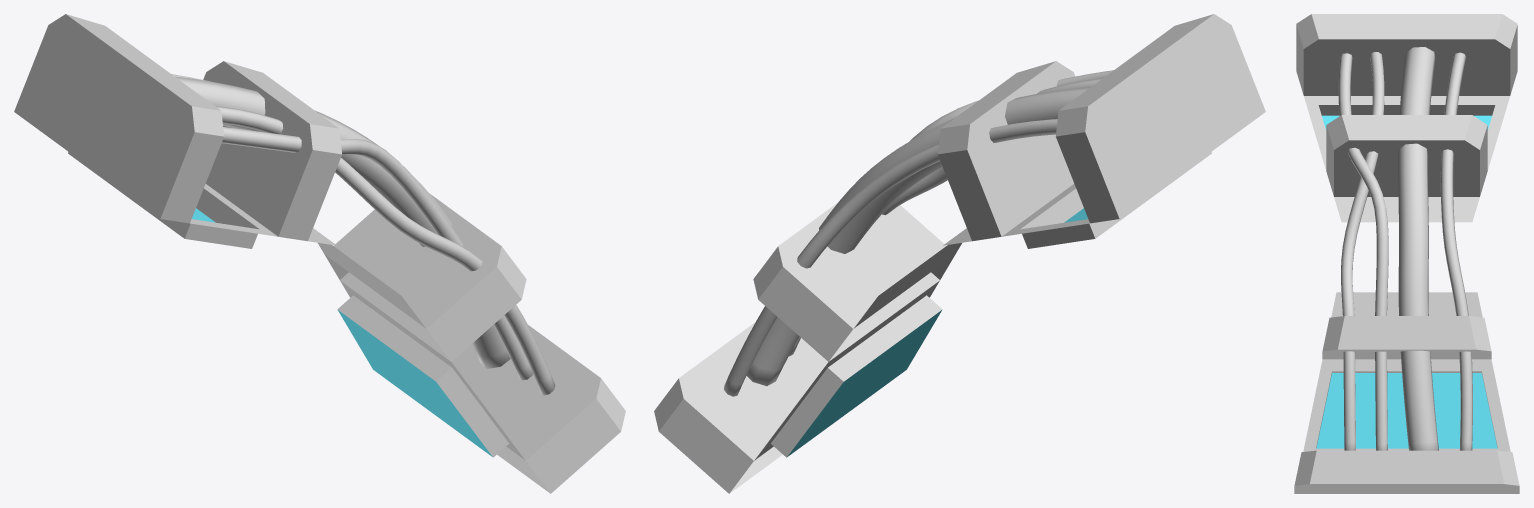
Rendered from Mod_Pauldron_L_Forge2.fbx.
3 renders of one model, left to right at view 1: azimuth 30°, elevation 25°; view 2: azimuth 150°, elevation 25°; view 3: azimuth 270°, elevation 25°, orthographic. The views are drawn at different scales.
Visible parts, largest first — view 1: Mod_Pauldron_L_Forge2; view 2: Mod_Pauldron_L_Forge2; view 3: Mod_Pauldron_L_Forge2.
Part boxes in pixels (x1,y1,x2,y2): Mod_Pauldron_L_Forge2: [14, 14, 625, 493]; Mod_Pauldron_L_Forge2: [654, 14, 1265, 493]; Mod_Pauldron_L_Forge2: [1294, 14, 1519, 493].
Size of the model in its own units: 266 by 249 by 144.
